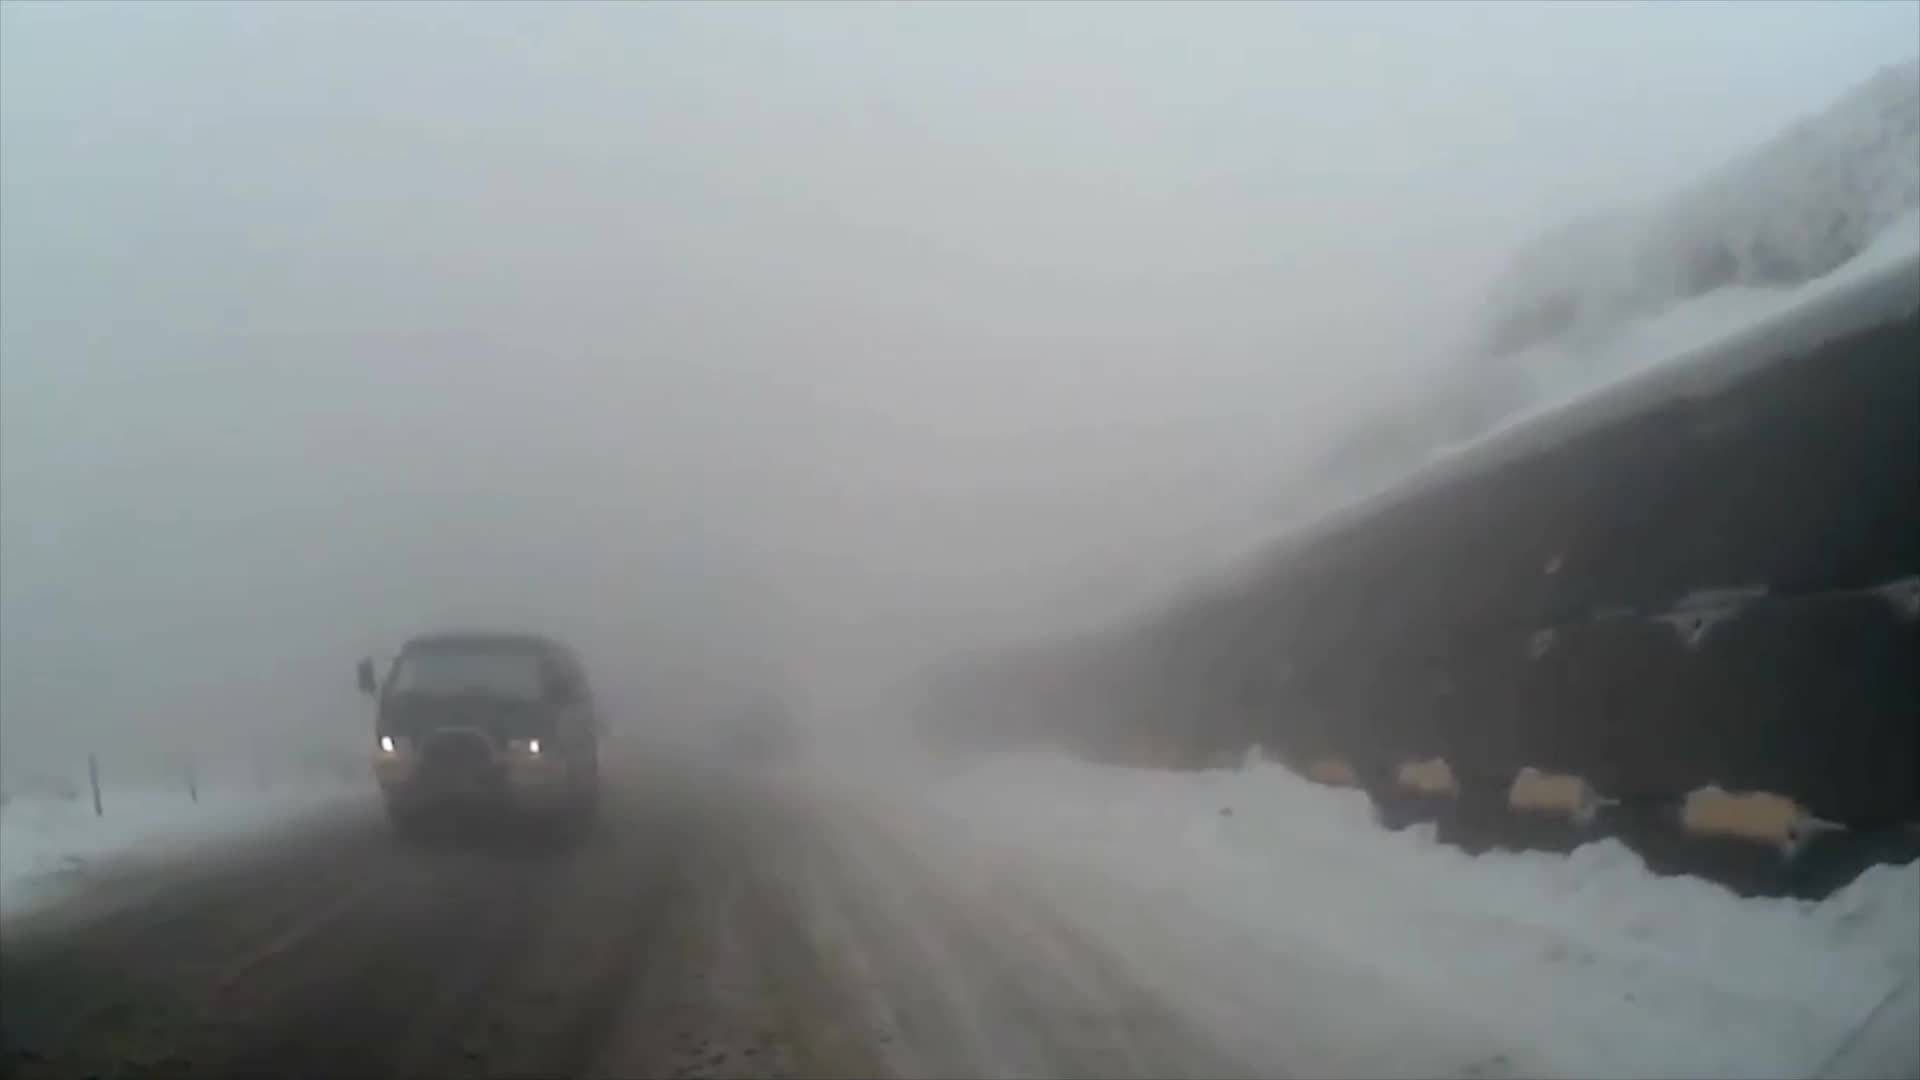vehicle: (351, 626, 603, 851)
